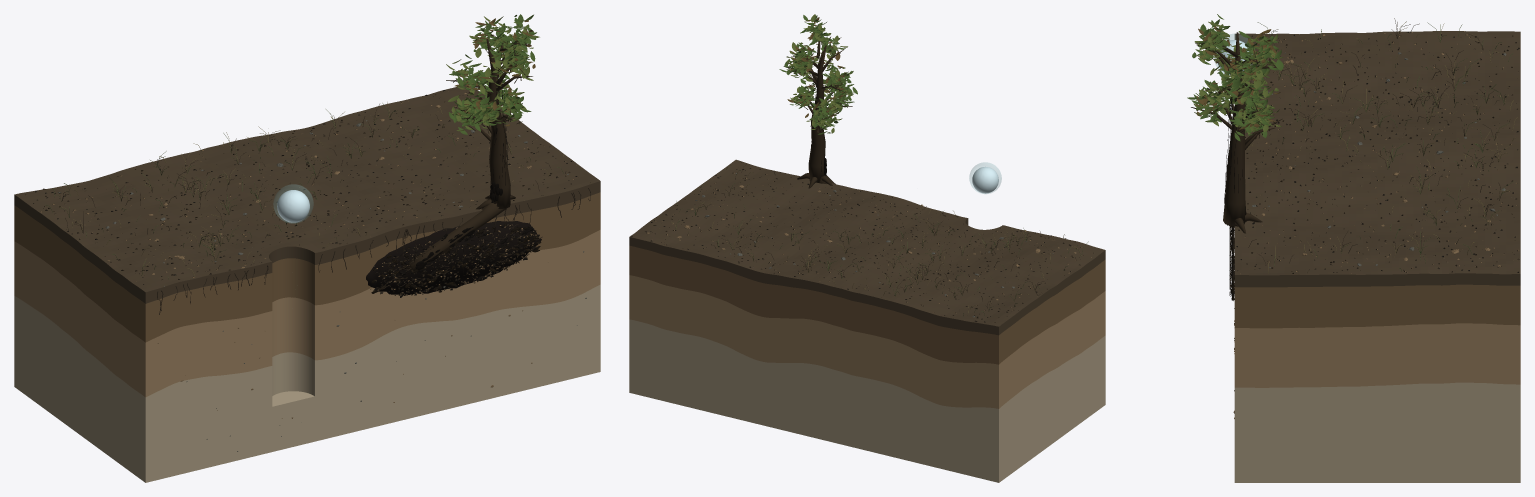
The model's file is dry-ice-reference-animation.glb.
3 renders of one model, left to right at view 1: azimuth 30°, elevation 25°; view 2: azimuth 150°, elevation 25°; view 3: azimuth 270°, elevation 25°, orthographic. The views are drawn at different scales.
Parts seen in each view (by area): view 1: Concept context material group 00, Concept context material group 03, Concept context material group 02, Concept context material group 01, Concept context material group 16, Concept context material group 07, Concept context material group 11, Concept context material group 14, Concept context material group 06, Cold boundary fog around dry ice, Concept context material group 13, Concept context material group 12 (+5 smaller); view 2: Concept context material group 00, Concept context material group 03, Concept context material group 02, Concept context material group 01, Concept context material group 16, Concept context material group 14, Concept context material group 11, Concept context material group 13, Cold boundary fog around dry ice, Concept context material group 12, Concept context material group 06, DRY ICE • Ø 0.500 m | vertical ballistic drop; view 3: Concept context material group 00, Concept context material group 03, Concept context material group 02, Concept context material group 01, Concept context material group 16, Concept context material group 14, Concept context material group 11, Concept context material group 13, Concept context material group 06, Concept context material group 12.
Part boxes in pixels (x1=…): Concept context material group 00: x1=14, y1=85, x2=600, y2=303; Concept context material group 03: x1=14, y1=284, x2=600, y2=482; Concept context material group 02: x1=14, y1=230, x2=600, y2=397; Concept context material group 01: x1=14, y1=192, x2=600, y2=342; Concept context material group 16: x1=446, y1=14, x2=539, y2=134; Concept context material group 07: x1=366, y1=221, x2=541, y2=295; Concept context material group 11: x1=25, y1=90, x2=596, y2=295; Concept context material group 14: x1=408, y1=32, x2=532, y2=271; Concept context material group 06: x1=61, y1=104, x2=590, y2=314; Cold boundary fog around dry ice: x1=273, y1=184, x2=313, y2=223; Concept context material group 13: x1=45, y1=103, x2=563, y2=279; Concept context material group 12: x1=58, y1=102, x2=581, y2=276; Concept context material group 00: x1=629, y1=159, x2=1105, y2=335; Concept context material group 03: x1=629, y1=319, x2=1105, y2=482; Concept context material group 02: x1=629, y1=275, x2=1105, y2=408; Concept context material group 01: x1=629, y1=245, x2=1105, y2=364; Concept context material group 16: x1=779, y1=14, x2=857, y2=134; Concept context material group 14: x1=783, y1=32, x2=852, y2=188; Concept context material group 11: x1=631, y1=162, x2=1094, y2=322; Concept context material group 13: x1=675, y1=170, x2=1088, y2=315; Cold boundary fog around dry ice: x1=969, y1=162, x2=1001, y2=193; Concept context material group 12: x1=671, y1=165, x2=1080, y2=315; Concept context material group 06: x1=695, y1=164, x2=1043, y2=310; DRY ICE • Ø 0.500 m | vertical ballistic drop: x1=972, y1=166, x2=998, y2=193; Concept context material group 00: x1=1234, y1=31, x2=1520, y2=287; Concept context material group 03: x1=1234, y1=382, x2=1520, y2=482; Concept context material group 02: x1=1234, y1=323, x2=1520, y2=387; Concept context material group 01: x1=1234, y1=284, x2=1520, y2=328; Concept context material group 16: x1=1187, y1=14, x2=1283, y2=141; Concept context material group 14: x1=1191, y1=32, x2=1283, y2=233; Concept context material group 11: x1=1230, y1=31, x2=1519, y2=295; Concept context material group 13: x1=1246, y1=22, x2=1513, y2=271; Concept context material group 06: x1=1230, y1=18, x2=1507, y2=293; Concept context material group 12: x1=1247, y1=21, x2=1517, y2=273.
Size of the model in its own units: 8 by 6.48 by 5.4.
